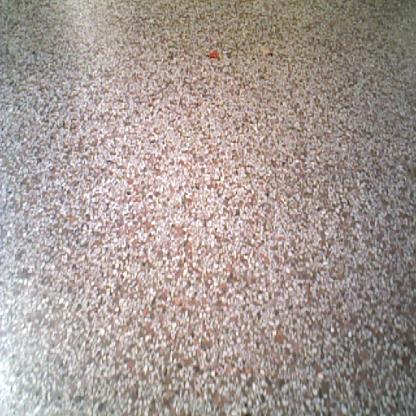dirty: (258, 44, 274, 57), (205, 50, 221, 62)
